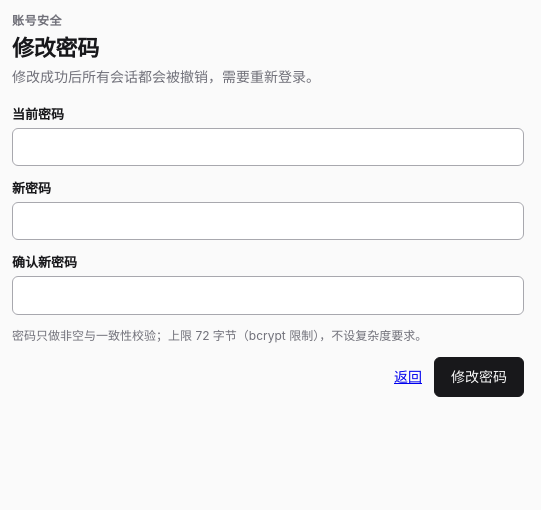
Scenario: ChangePasswordPage › clears the session and returns to Login after a successful change (AC-025-03)
Type "old-secret" into the password field named "oldPassword". click: (268, 147)
box: 12,128 -> 524,166
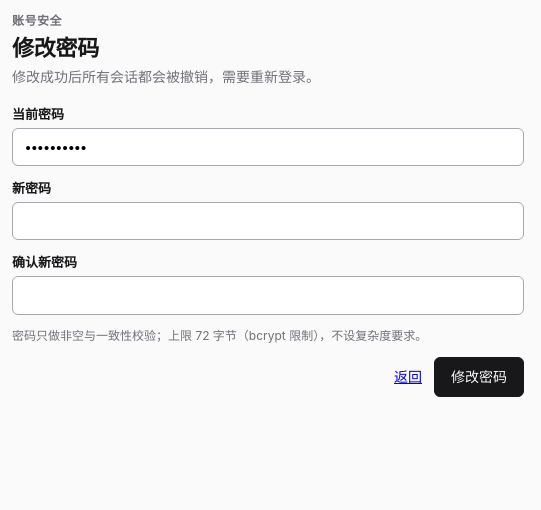
Type "new-secret" into the password field named "newPassword". click: (268, 221)
box: 12,202 -> 524,240
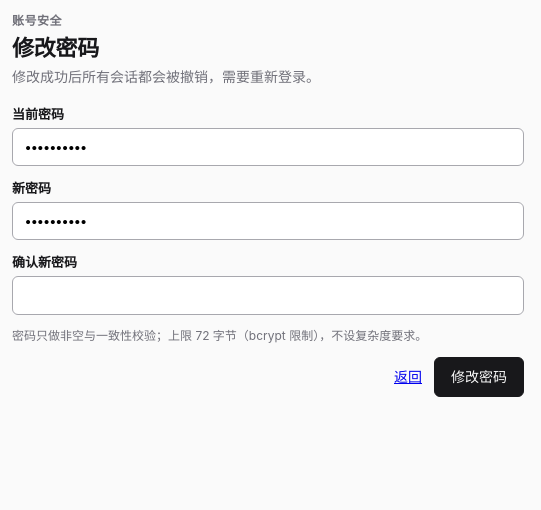
Type "new-secret" into the password field named "confirmPassword". click: (268, 296)
box: 12,276 -> 524,315
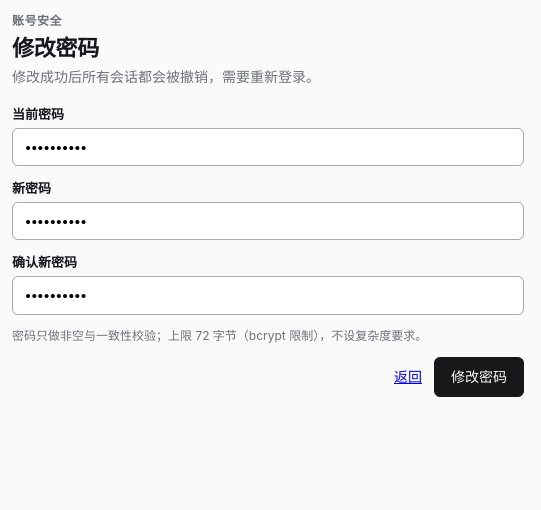
Submit the form, box 12,104 -> 524,397
Wait 1300 ms
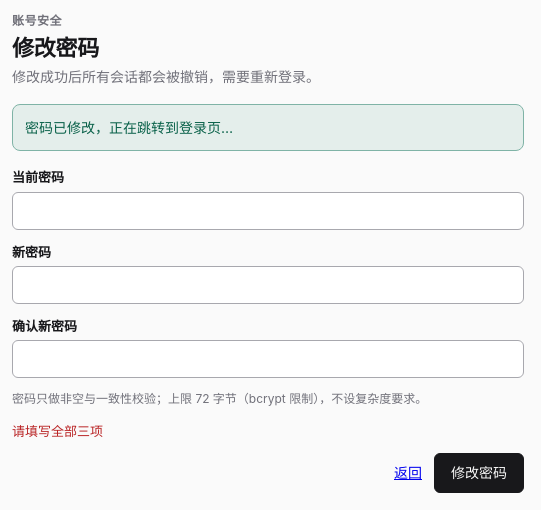
Now the message "密码已修改，正在跳转到登录页…" is shown, box 12,104 -> 524,152
